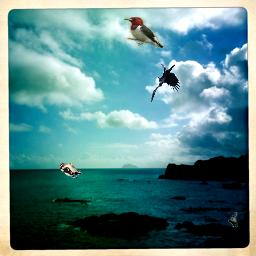Crow: (151, 63, 180, 103), (228, 212, 238, 227)
Woodpecker: (124, 17, 164, 48), (60, 162, 82, 178)
